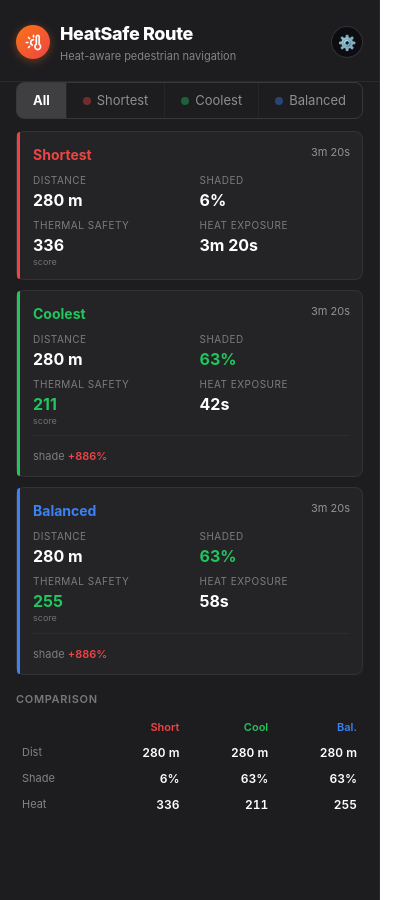
Test: RoutePanel — Settings drawer › shows signed-in user details inside settings
Click the button with test id "settings-btn": (347, 42) [331,26,363,58]
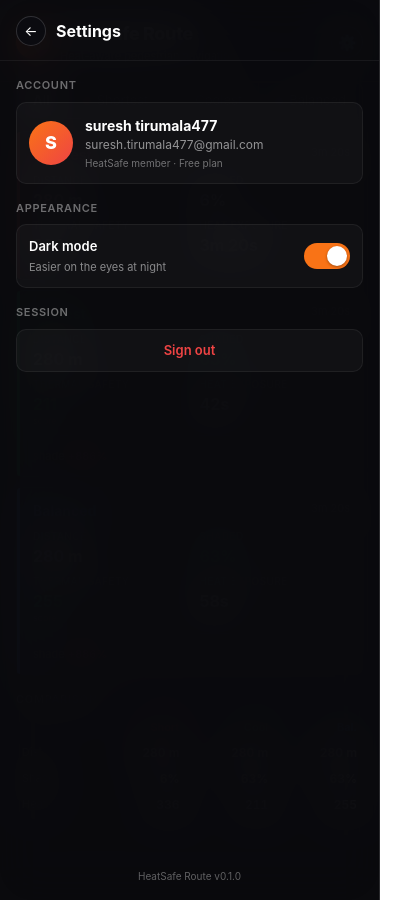
Result: the text "suresh.tirumala477@gmail.com" is shown at [85,136,264,154]
Result: the text "suresh tirumala477" is shown at [85,116,217,134]
Result: the text "HeatSafe member · Free plan" is shown at [85,156,223,168]
